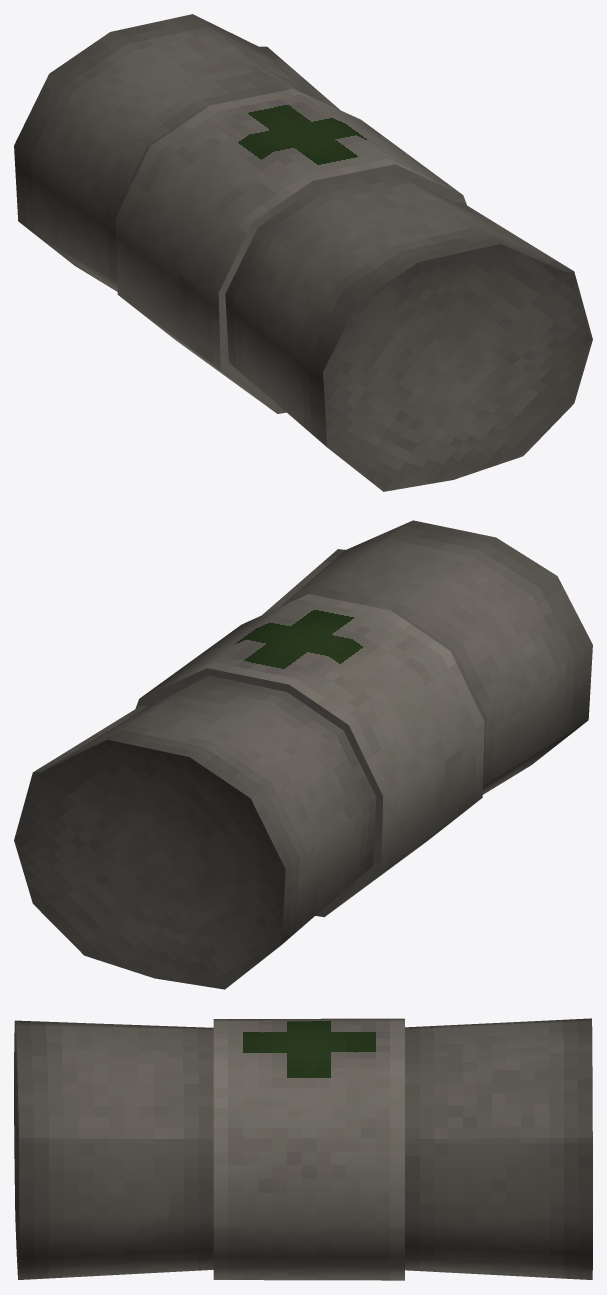
File: bandage_mp_1.glb
3 renders of one model, top to bottom at view 1: azimuth 30°, elevation 25°; view 2: azimuth 150°, elevation 25°; view 3: azimuth 270°, elevation 25°, orthographic. The views are drawn at different scales.
Visible parts, largest first — view 1: bandage_mp_1; view 2: bandage_mp_1; view 3: bandage_mp_1.
Boxes of the visible parts, bbox=[...] form: bandage_mp_1: bbox=[14, 14, 592, 491]; bandage_mp_1: bbox=[14, 520, 592, 989]; bandage_mp_1: bbox=[14, 1018, 592, 1280].
Bounding box in the file's own units: 0.0753 × 0.061 × 0.148.
Materials: 1 (1 with a texture image).
